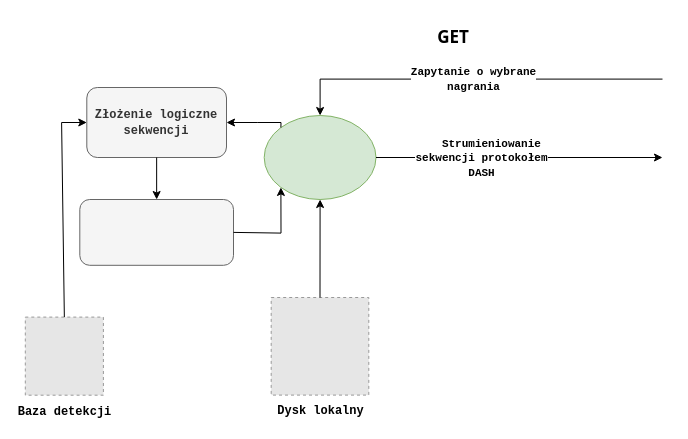
This 688x439 diagram has some shape labels left out. Grey dashed boxes stand in for pictures. The shapes that lost their labels are listed below. From the top down, each one's centre as x and y in pixels, then its label:
At point (319, 157): "API".
At point (156, 231): "Utworzenie manifestu MPD".
